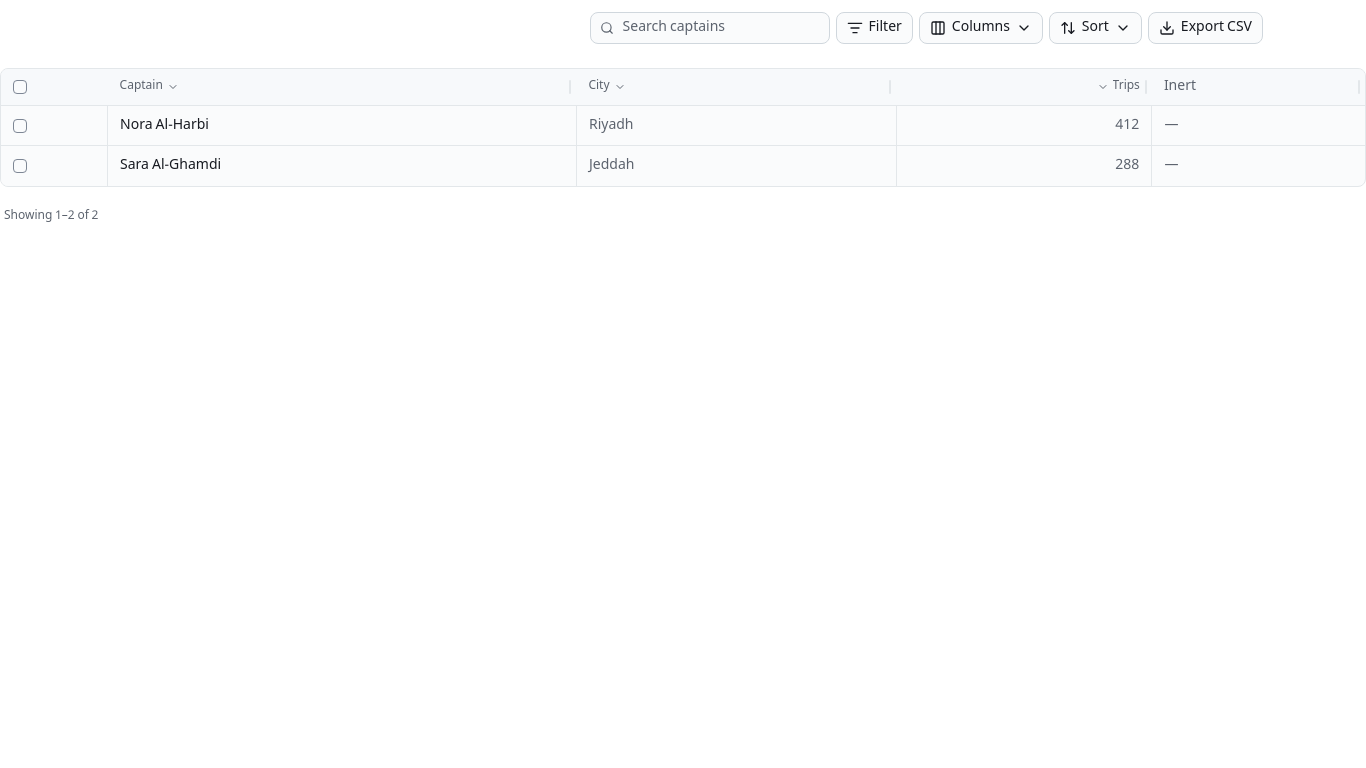
Test case: a column filter is one filter (AC-93, AC-95, AC-96) › writes one chip and one header summary, from the same string
The width and height of the screenshot is (1366, 768).
Click the button with aria-label "Column options for City" at (599, 86), box [576,69,896,105]
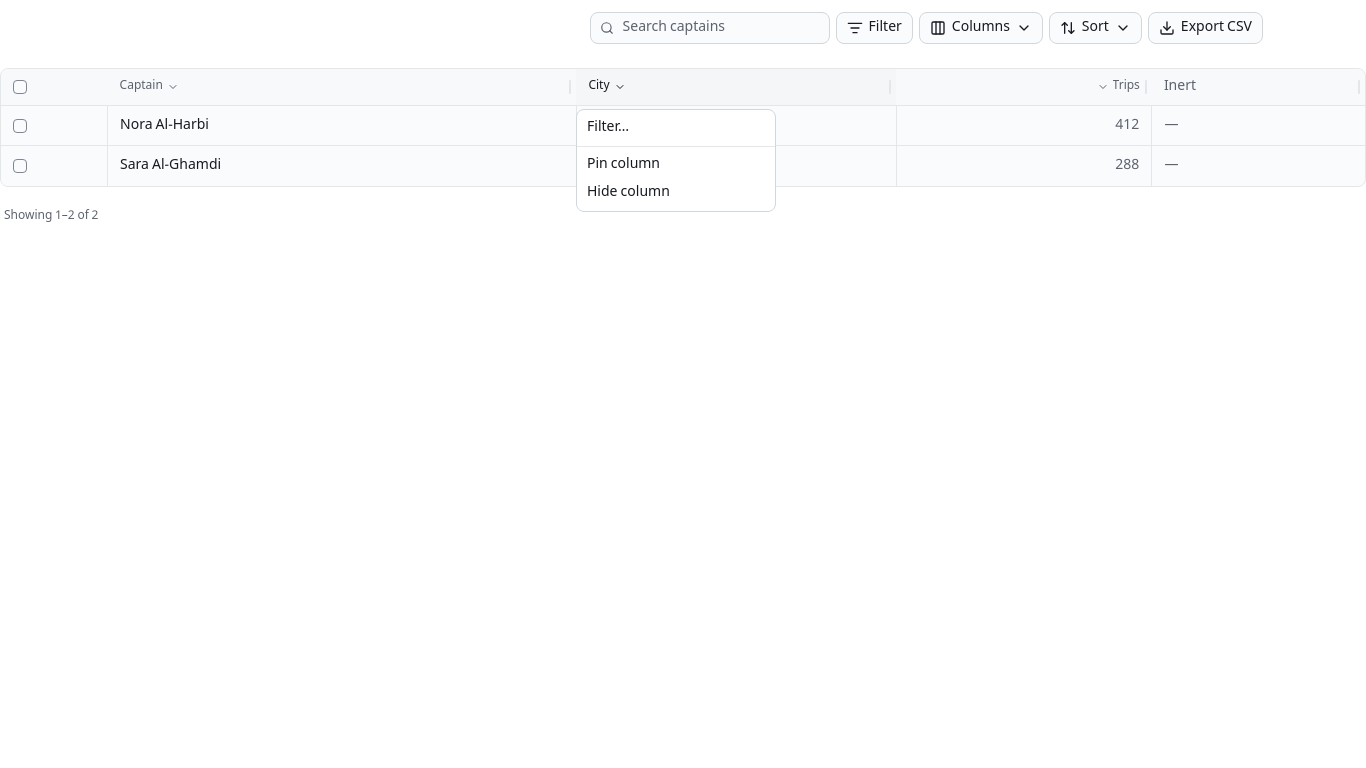
Click the menu item "Filter…" at (608, 128), box [587,116,629,140]
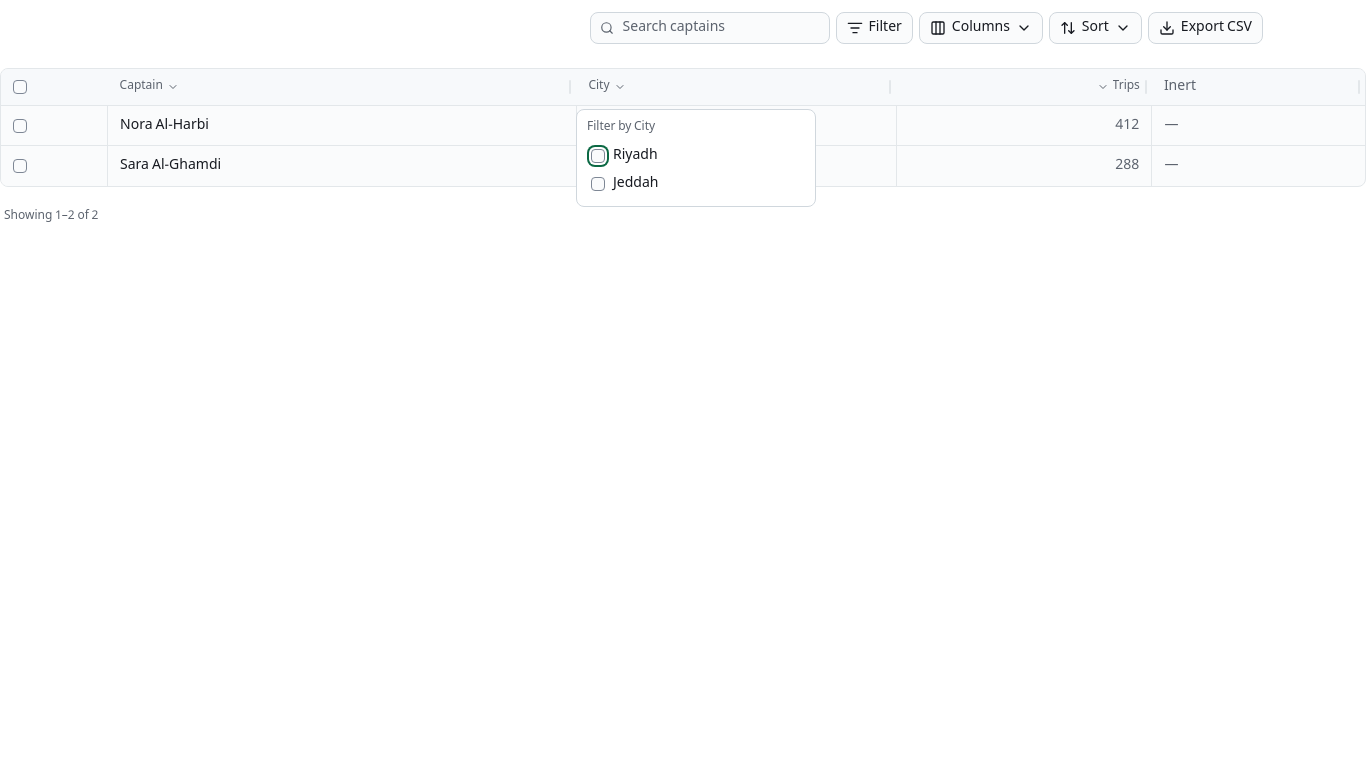
Click the checkbox named "Riyadh" at (598, 156), box [591,149,605,163]
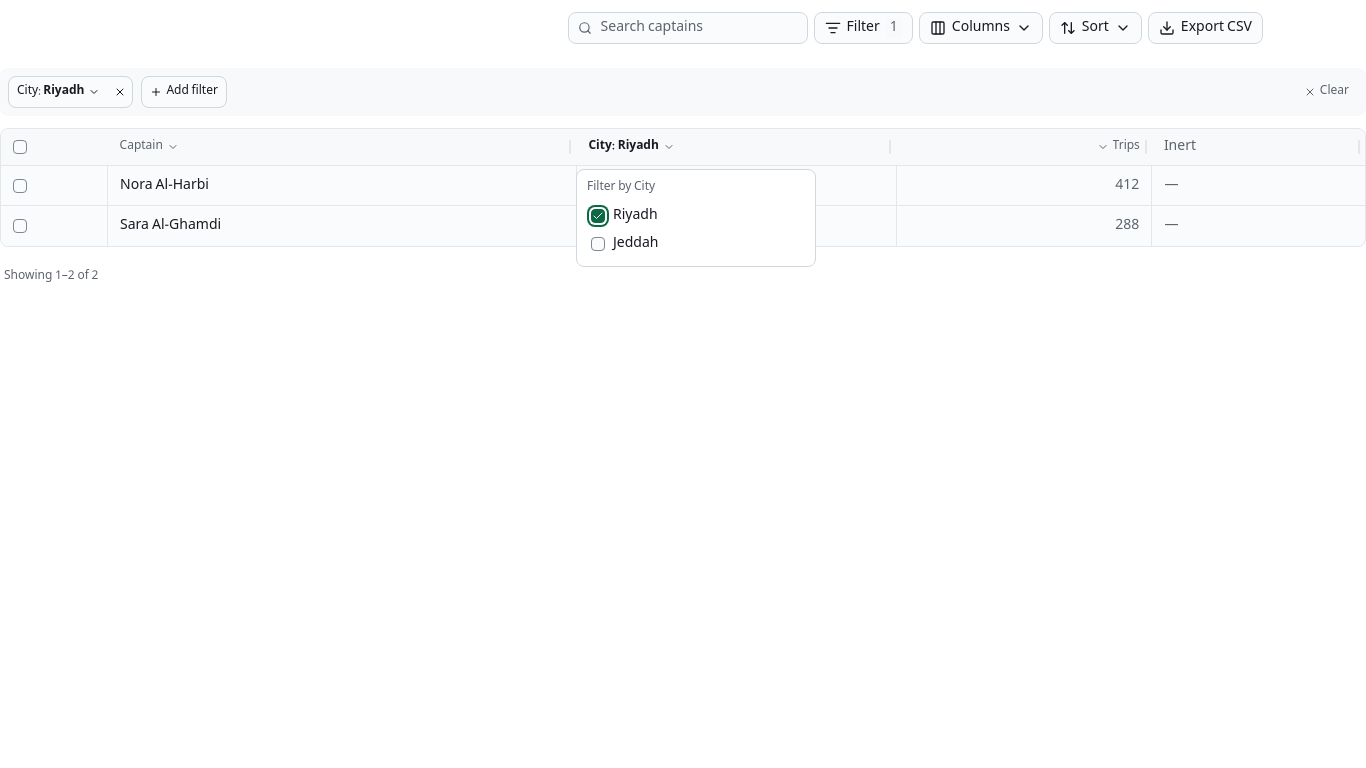
Check: the 1st button "City: Riyadh" is shown, box [9,76,108,108]
Check: the button named "Remove the City filter" is shown, box [108,80,132,104]
Check: the 1st text "Riyadh" is shown, box [43,81,84,102]
